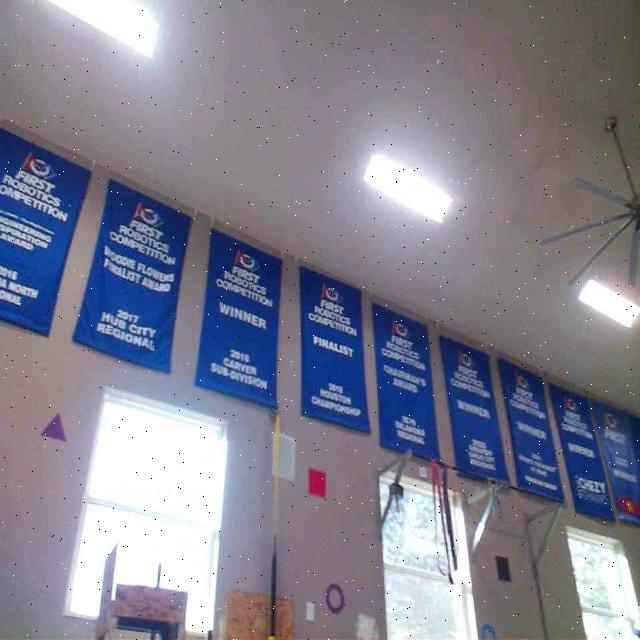ring_purple: (324, 583, 344, 613)
square_black: (493, 554, 512, 580)
square_red: (306, 467, 327, 496)
triangle_purple: (41, 412, 65, 440)
